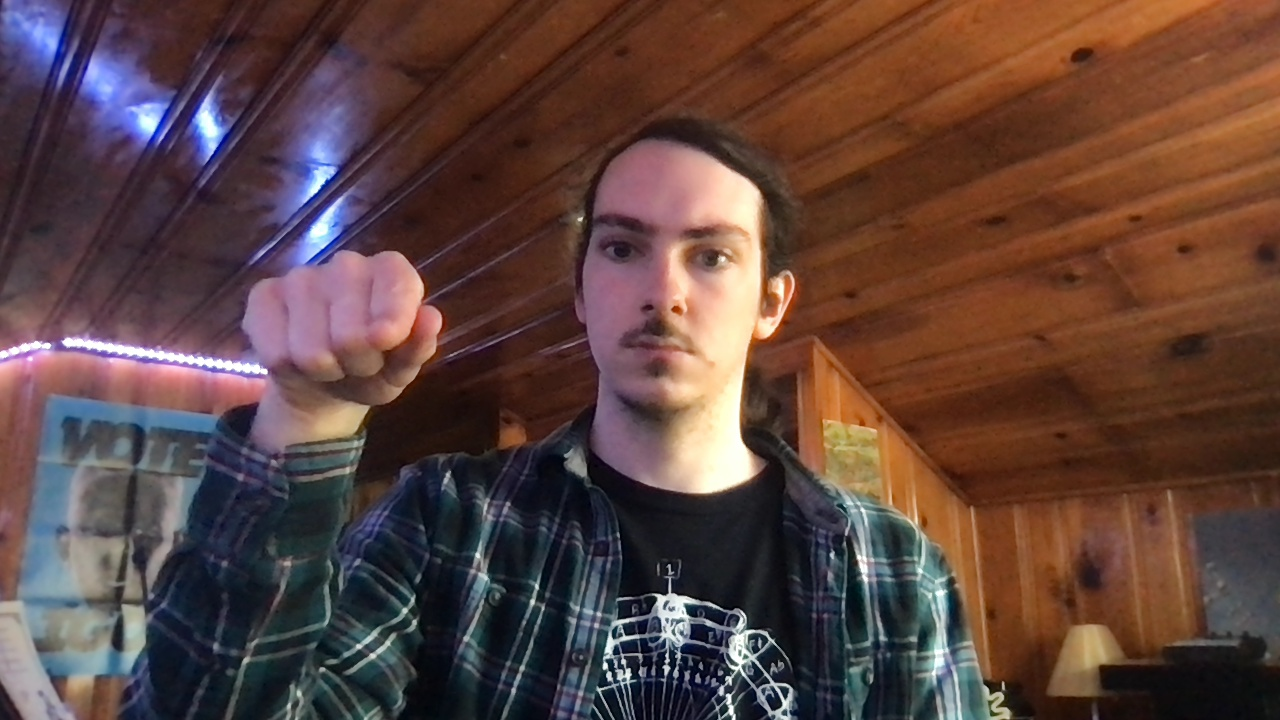q: (240, 248, 444, 409)
